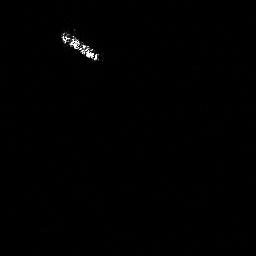ship: (58, 29, 104, 64)
